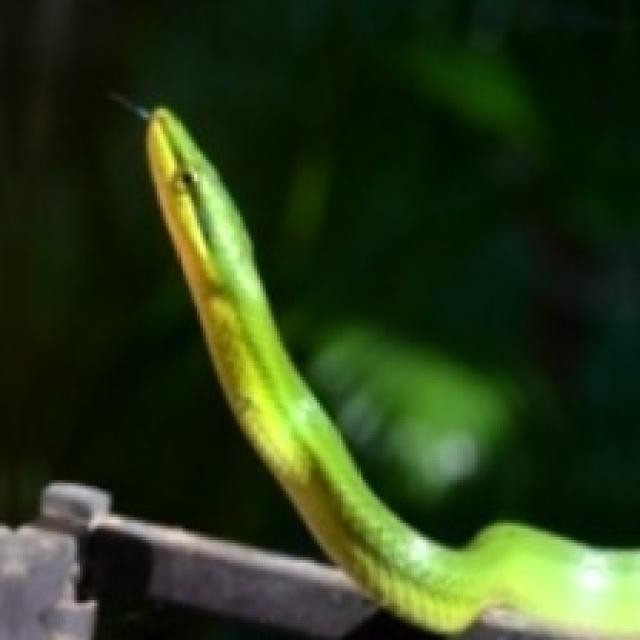red-tailed green ratsnake: (146, 109, 637, 637)
